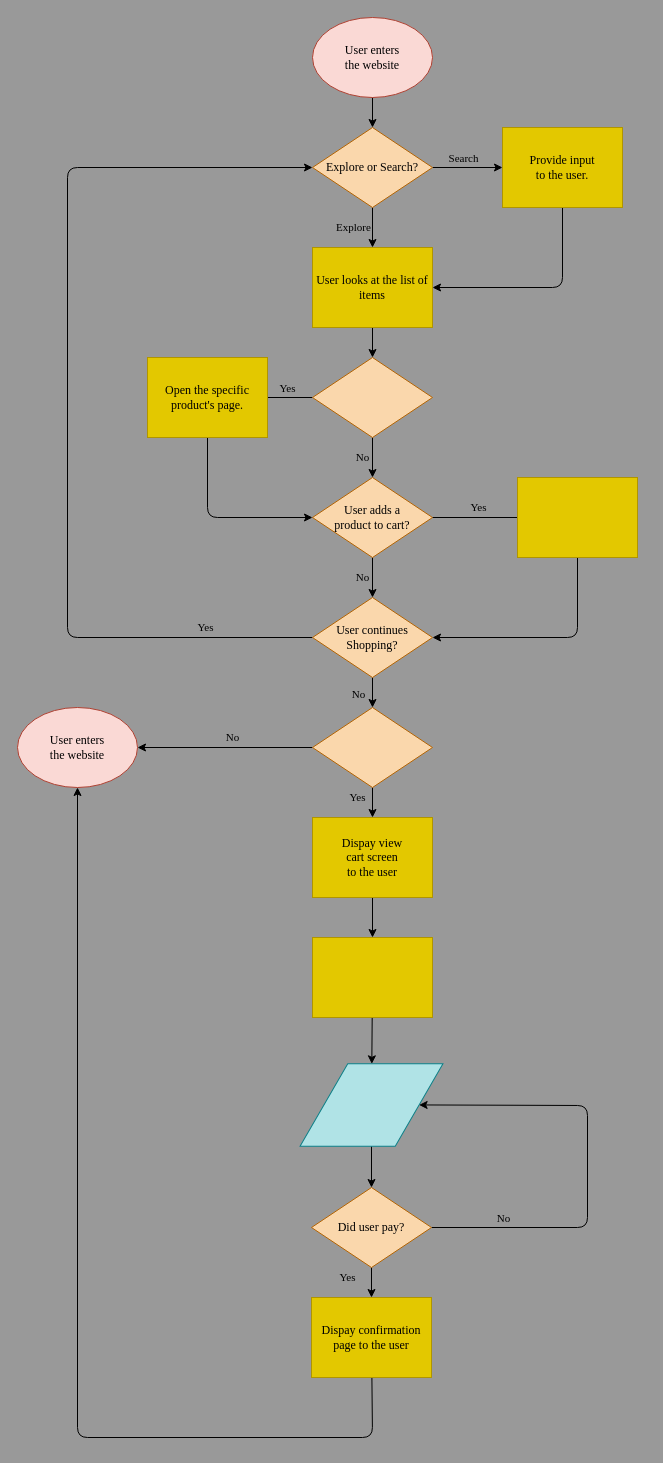
Some shapes in this 663 by 1463 pixel diagram are drawn without their labels. Here are the shapes that lost their labels. From the top down, the centre of each, then its label:
point (372, 397): User views a specific product?
point (577, 517): Display "ddded to cart" message.
point (372, 747): User checkouts Products?
point (372, 977): Dispay payment page to the user
point (371, 1104): User's payment information
